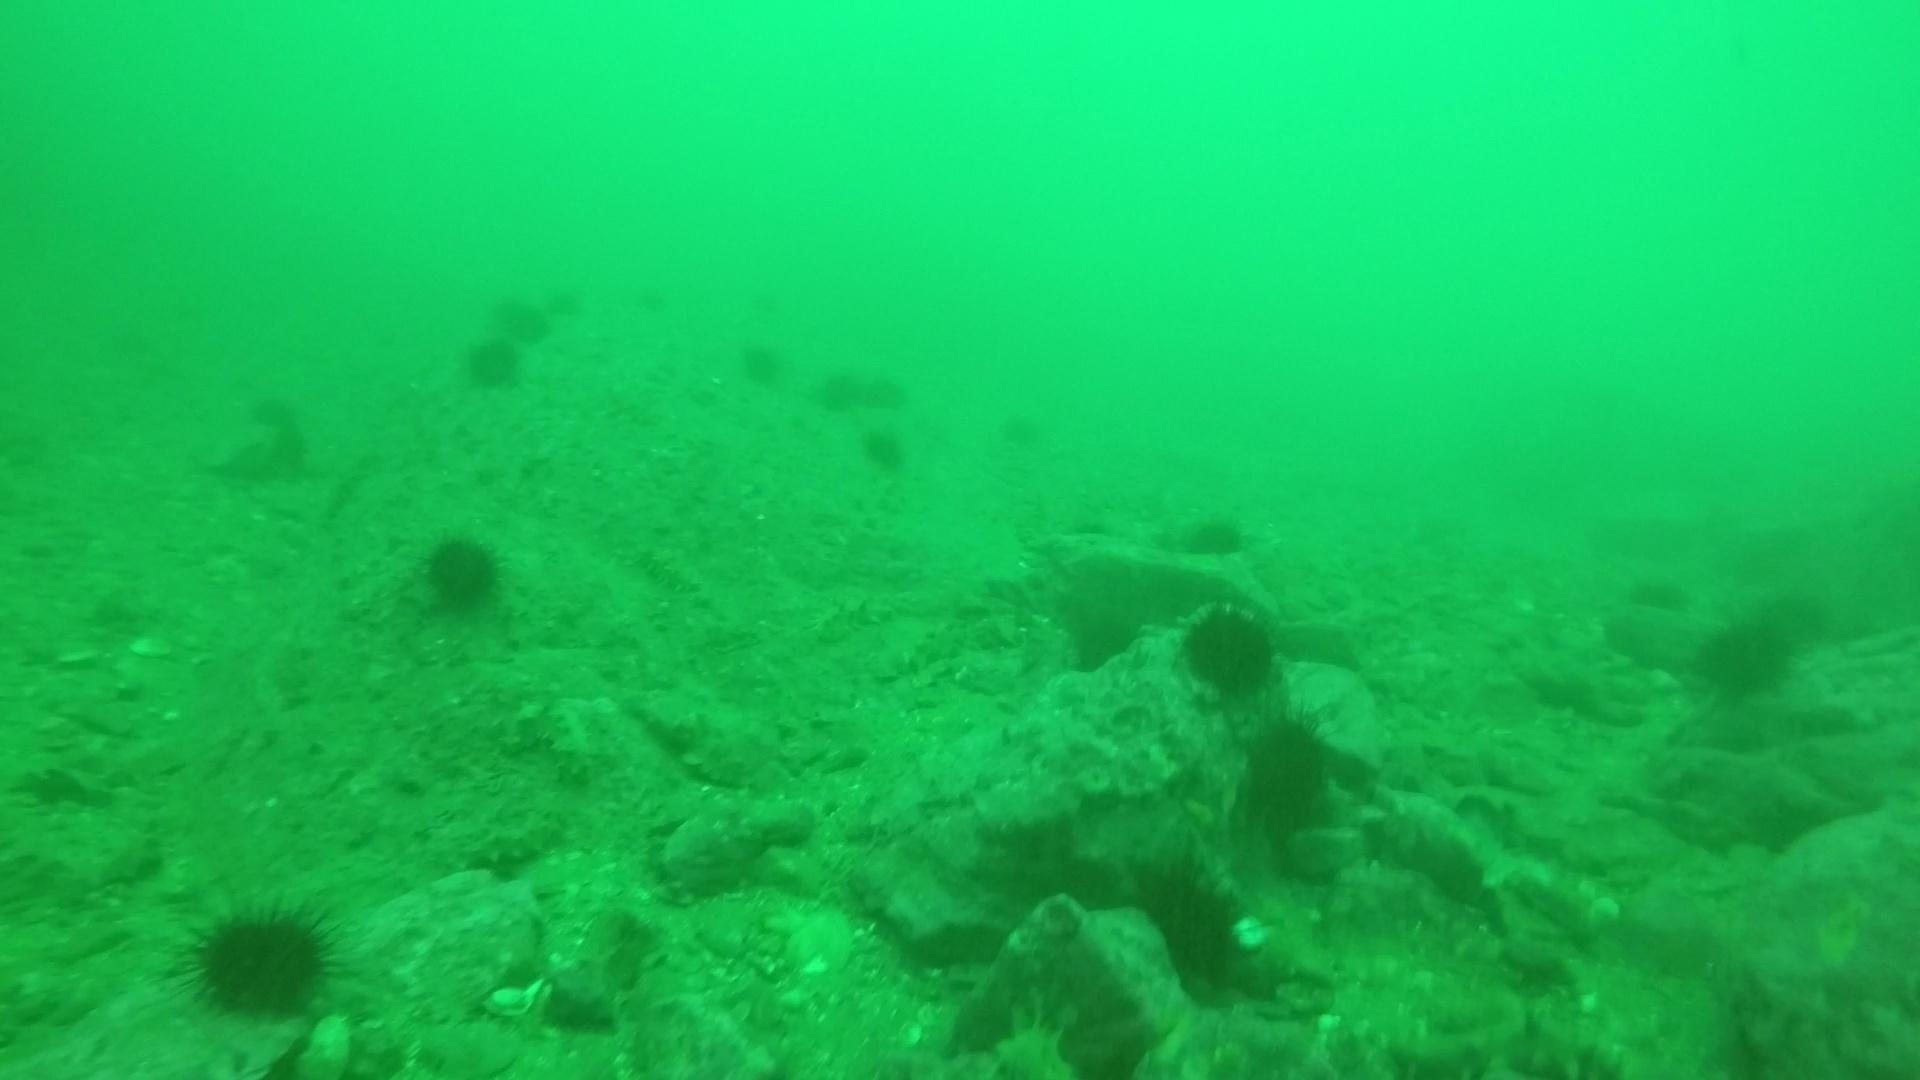echinus: (178, 895, 344, 1025), (1124, 856, 1254, 1000), (1234, 711, 1338, 837), (1175, 600, 1284, 703), (1692, 611, 1800, 704), (414, 527, 510, 618), (458, 330, 527, 394), (1180, 508, 1250, 562), (856, 422, 913, 476), (735, 335, 789, 389), (815, 368, 866, 417), (862, 368, 913, 417), (245, 384, 299, 427), (487, 280, 533, 323), (512, 305, 558, 347), (539, 274, 585, 316), (993, 404, 1034, 443), (622, 280, 665, 313)
holothurian: (1385, 1000, 1634, 1077), (497, 695, 597, 791), (644, 702, 746, 793), (1505, 868, 1592, 949), (473, 812, 566, 870), (633, 534, 709, 600), (885, 625, 967, 679), (812, 593, 894, 641)
